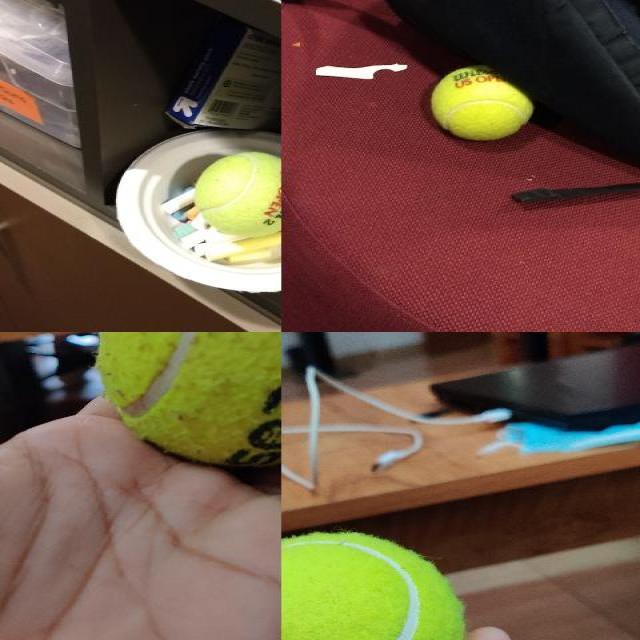tennis-ball: (96, 332, 280, 467), (282, 532, 466, 639), (193, 150, 280, 238), (428, 64, 484, 140)
